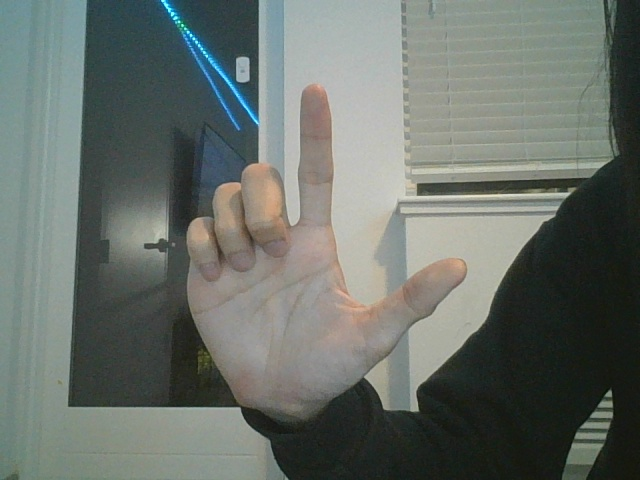l: (180, 82, 467, 427)
